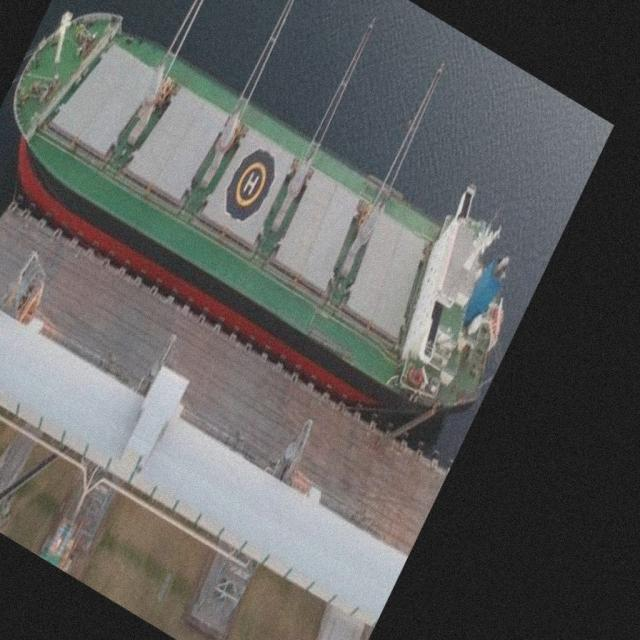helipad: (230, 158, 269, 208)
